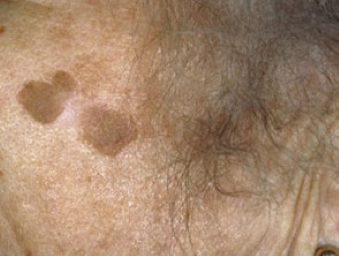seborrheic keratosis: (20, 46, 138, 168)
